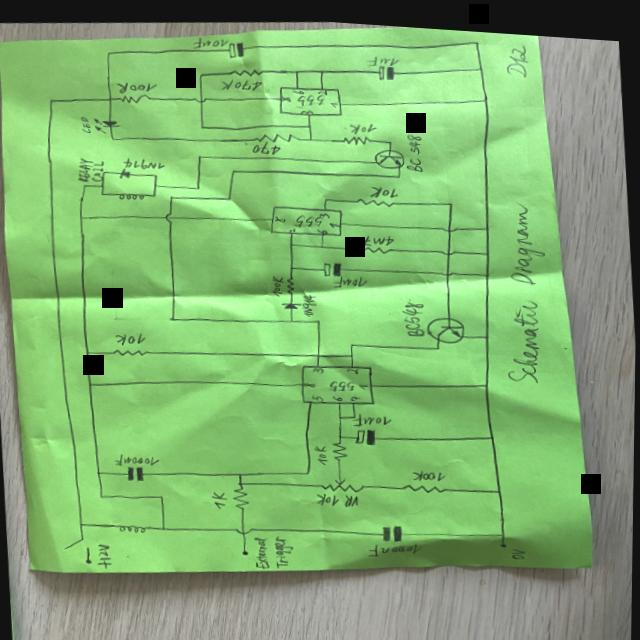capacitor: (355, 419, 380, 443), (381, 516, 407, 538), (225, 35, 247, 56), (126, 461, 149, 480), (376, 56, 397, 75), (323, 255, 344, 272)
crossover: (234, 521, 255, 532), (440, 240, 456, 249), (440, 261, 455, 270), (442, 218, 458, 226), (164, 208, 174, 220), (194, 92, 207, 99), (315, 348, 322, 353)
diode: (92, 114, 121, 133), (282, 295, 303, 306), (118, 164, 131, 177)
inductor: (117, 517, 152, 532), (116, 186, 145, 200)
junction: (495, 479, 504, 488), (84, 347, 93, 355), (198, 119, 206, 127), (87, 378, 95, 386), (197, 67, 205, 75), (304, 464, 312, 472), (78, 518, 86, 526), (483, 242, 491, 250), (307, 130, 315, 138), (483, 263, 491, 271), (483, 325, 491, 333), (160, 522, 169, 529), (237, 467, 245, 474), (446, 193, 454, 200), (472, 32, 480, 39), (488, 426, 496, 433), (168, 312, 176, 319), (482, 217, 490, 224), (394, 166, 402, 173), (385, 132, 393, 139), (96, 467, 103, 474), (481, 89, 488, 96), (225, 191, 232, 197), (194, 182, 201, 188), (159, 490, 166, 496), (434, 338, 441, 344), (483, 374, 490, 380), (106, 94, 113, 100), (101, 166, 107, 173), (197, 150, 203, 156), (99, 491, 106, 496), (230, 164, 237, 169), (48, 97, 55, 102), (293, 64, 299, 69), (349, 336, 355, 341), (323, 191, 329, 196), (79, 213, 85, 218), (338, 428, 344, 433), (152, 170, 158, 175), (151, 190, 157, 195), (501, 524, 507, 529), (349, 347, 355, 352), (289, 313, 295, 318), (289, 260, 295, 265), (315, 314, 322, 318), (100, 189, 105, 194), (100, 181, 105, 186), (318, 64, 324, 68), (168, 192, 174, 196), (337, 410, 343, 414), (109, 134, 115, 138), (319, 239, 325, 243), (152, 181, 158, 185), (351, 408, 357, 412), (289, 237, 295, 241), (477, 59, 483, 63), (106, 49, 110, 53), (307, 119, 311, 123), (238, 478, 243, 481), (82, 182, 86, 185)
resistor: (321, 470, 366, 490), (402, 472, 447, 489), (255, 125, 300, 142), (230, 480, 253, 508), (228, 60, 265, 76), (350, 236, 391, 250), (355, 189, 395, 203), (112, 342, 149, 356), (116, 90, 153, 104), (342, 128, 370, 141), (331, 436, 349, 456), (285, 270, 296, 290)
switch: (65, 533, 92, 551)
terminal: (499, 532, 509, 541), (242, 545, 252, 552), (87, 555, 95, 562)
text: (496, 187, 561, 379), (366, 532, 425, 556), (401, 292, 426, 331), (272, 528, 298, 565), (114, 447, 164, 466), (121, 151, 166, 170), (219, 72, 264, 91), (403, 126, 424, 166), (352, 404, 394, 423), (112, 327, 151, 346), (115, 76, 158, 93), (254, 530, 274, 566), (95, 537, 118, 568), (411, 461, 448, 477), (251, 134, 282, 152), (294, 87, 325, 105), (191, 31, 228, 46), (331, 268, 368, 283), (292, 208, 325, 224), (361, 227, 396, 242), (75, 155, 95, 181), (368, 178, 400, 194), (314, 486, 343, 503), (349, 115, 378, 130), (367, 48, 400, 61), (301, 288, 318, 312), (327, 373, 356, 387), (211, 485, 230, 506), (314, 438, 330, 461), (90, 158, 105, 180), (271, 270, 285, 292), (511, 538, 529, 552), (344, 487, 361, 501), (80, 113, 91, 132), (279, 89, 293, 99), (346, 360, 360, 370), (312, 387, 325, 397), (274, 210, 286, 219), (303, 375, 316, 383), (291, 83, 305, 90), (318, 206, 330, 214), (329, 216, 341, 224), (312, 361, 324, 369), (351, 388, 363, 396), (358, 377, 370, 385), (317, 222, 328, 230), (299, 104, 313, 110), (317, 83, 327, 91), (333, 389, 344, 396), (288, 221, 296, 229), (330, 96, 339, 103)
transistor: (427, 307, 468, 340), (374, 140, 405, 164)
